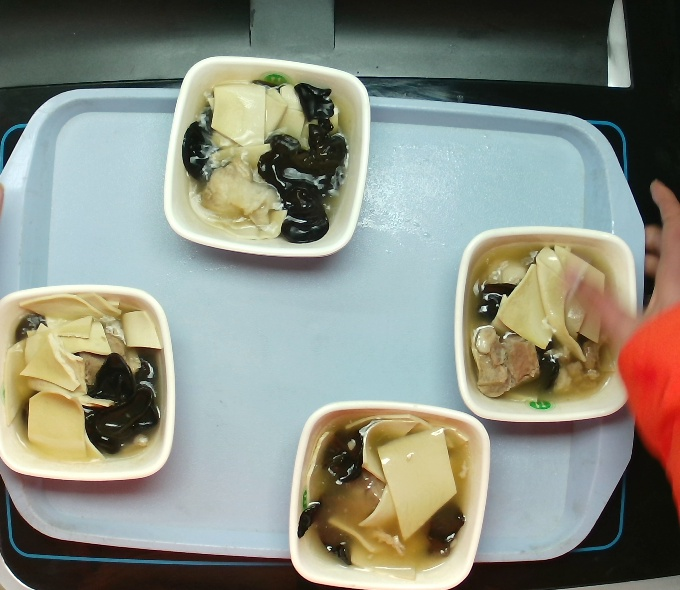wcq-QianZhangMuErTang: (288, 403, 479, 585), (0, 287, 180, 478), (176, 65, 357, 247), (468, 235, 616, 410)
